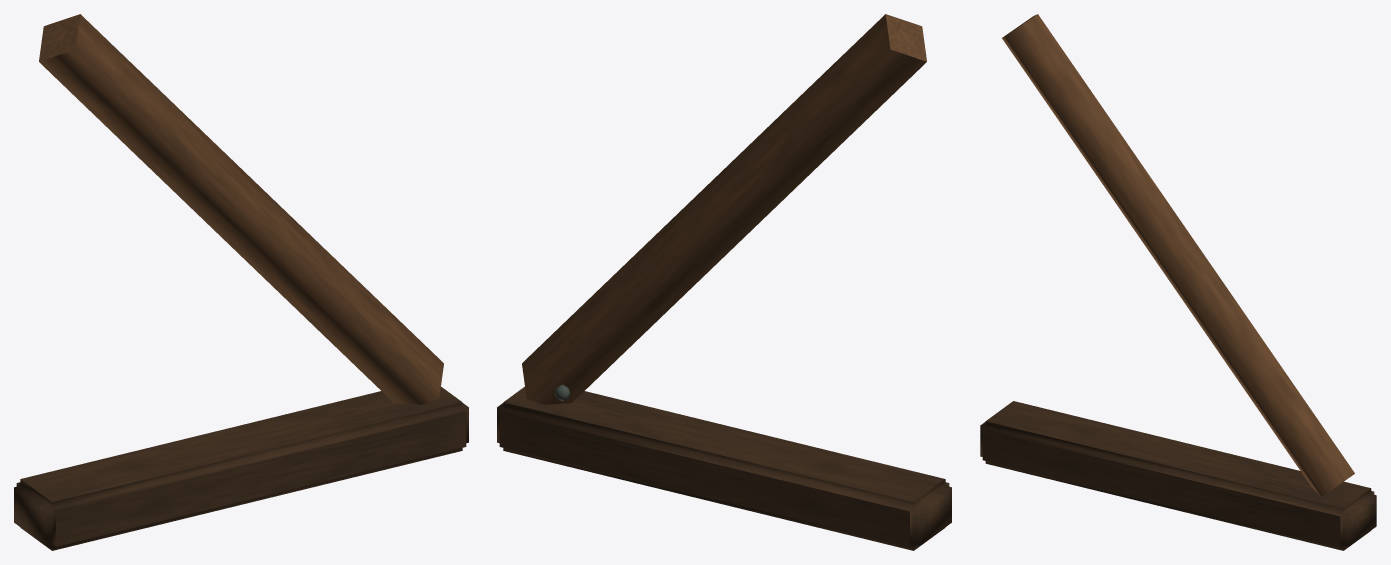
Rendered from timber-brace-0.fbx.
3 views of the same model, side by side, from view 1: azimuth 30°, elevation 25°; view 2: azimuth 150°, elevation 25°; view 3: azimuth 330°, elevation 25° (orthographic). The views are drawn at different scales.
Parts seen in each view (by area): view 1: timber-brace-0__Geometry; view 2: timber-brace-0__Geometry; view 3: timber-brace-0__Geometry.
Boxes of the visible parts, x1,y1,x2,y2 form: timber-brace-0__Geometry: (14,14,468,550); timber-brace-0__Geometry: (497,14,951,550); timber-brace-0__Geometry: (980,14,1376,550).
Bounding box in the file's own units: 1 × 1.16 × 0.16.
1 material, 1 textured.
